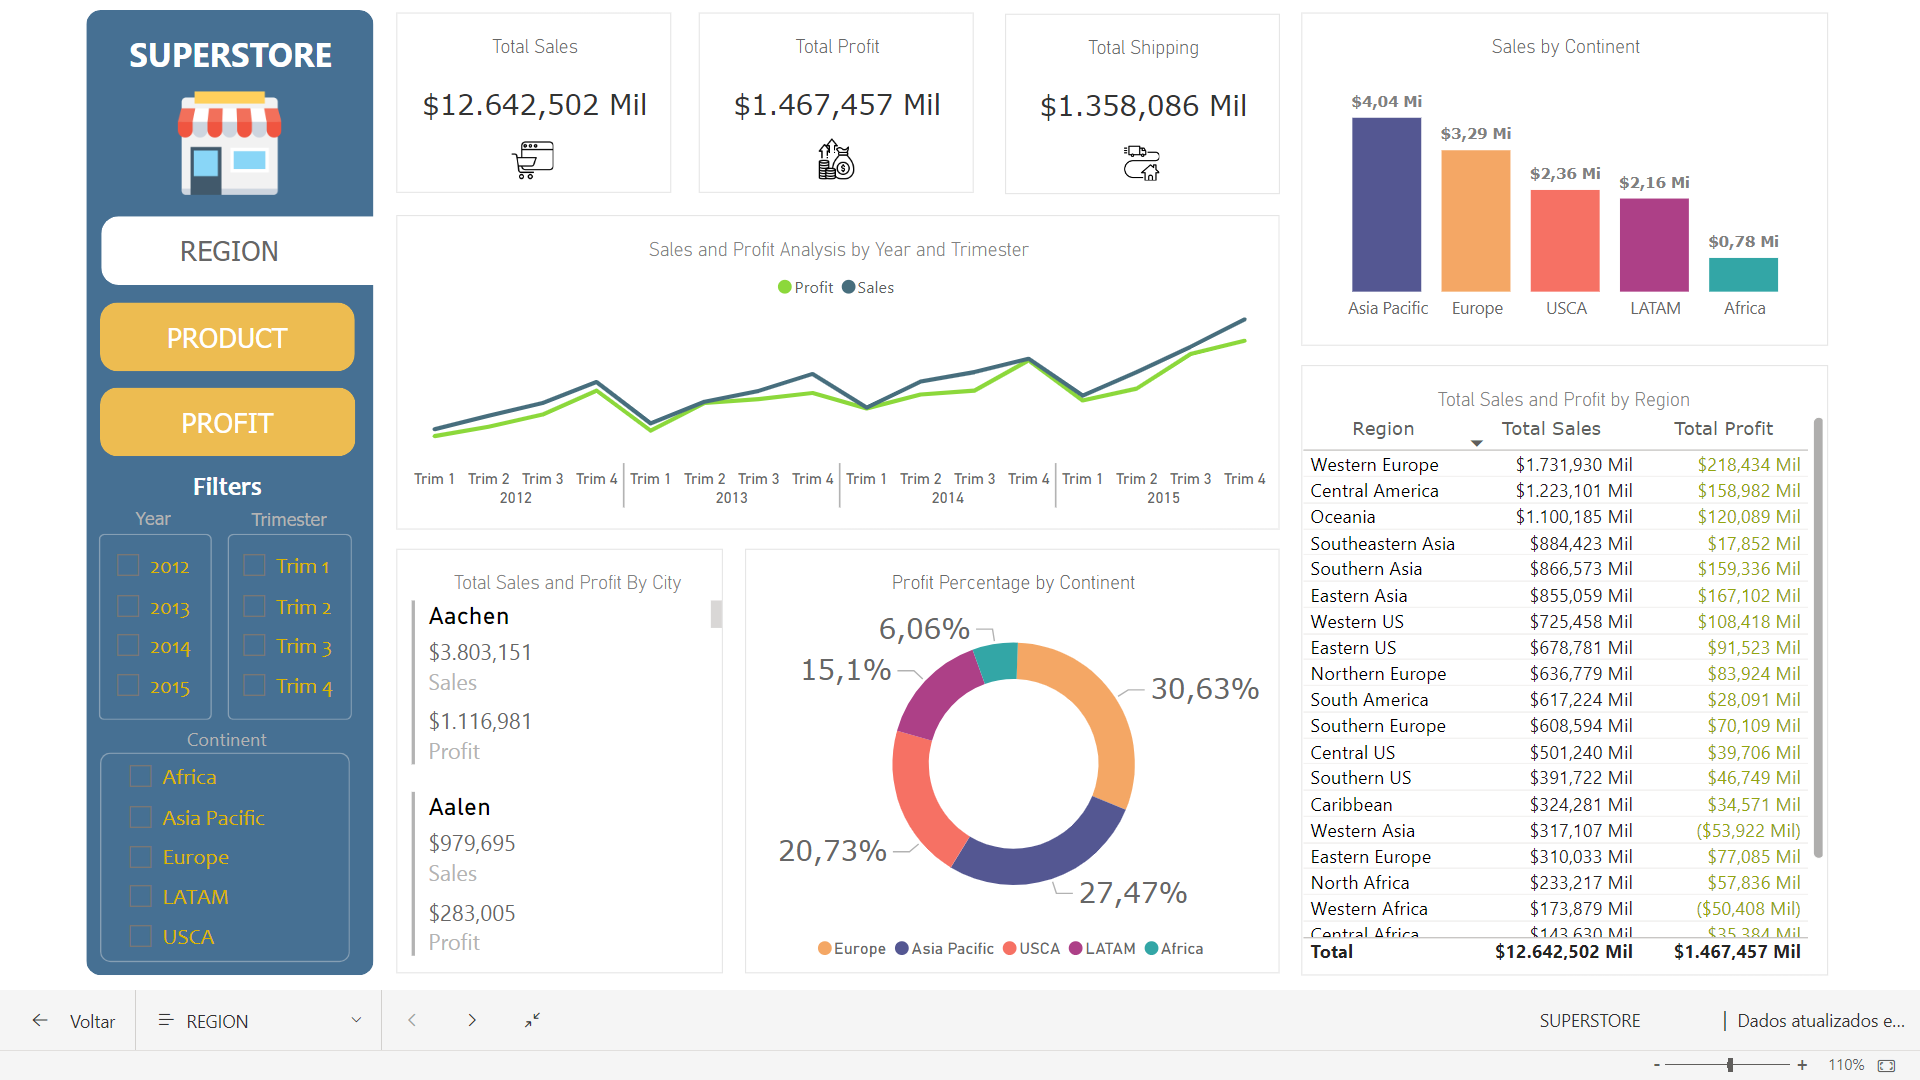

What the dashboard file says about the page in this screenshot:
{"tool":"powerbi","page":{"name":"REGION","canvas":[1280,720],"ordinal":0},"visuals":[{"type":"shape","box":[4.5,7.5,209,702],"z":0},{"type":"group","id":"g1","title":"Grupo 1","box":[15.6,157.7,216.7,50],"z":1000},{"type":"shape","box":[15.6,157.7,216.7,50],"z":1000,"group":"g1"},{"type":"shape","box":[14.4,219.9,185.3,50],"z":2000,"group":"g3"},{"type":"group","id":"g2","title":"Grupo 3","box":[14.4,282.1,185.6,50],"z":2000},{"type":"group","id":"g3","title":"Grupo 2","box":[14.4,219.9,185.6,50],"z":3000},{"type":"shape","box":[14.4,282.1,185.9,50],"z":3000,"group":"g2"},{"type":"columnChart","title":"Sales by Continent","fields":{"Y":["Sum(Orders.sales)"],"Category":["Orders.market"]},"box":[887.8,8.9,383.3,242.2],"z":4000},{"type":"multiRowCard","title":"Total Sales and Profit By City","fields":{"Values":["Orders.city","Sum(Orders.sales)","Sum(Orders.profit)"]},"box":[230,398.8,237.5,308.8],"z":5000},{"type":"card","title":"Total Sales","fields":{"Values":["Sum(Orders.sales)"]},"box":[230,8.8,200,131.2],"z":6000},{"type":"card","title":"Total Profit","fields":{"Values":["Sum(Orders.profit)"]},"box":[450,8.8,200,131.2],"z":7000},{"type":"shape","box":[13.9,387.8,82.2,135.6],"z":8000},{"type":"slicer","fields":{"Values":["Orders.orderDate.Variation.Hierarquia de datas.Ano"]},"box":[13.9,392.2,86.7,131.1],"z":9000},{"type":"textbox","box":[12.5,337.5,185,36.2],"z":10000},{"type":"textbox","box":[4.3,363,93.3,29.4],"z":11000},{"type":"textbox","box":[103.9,363.3,92.8,29.4],"z":12000},{"type":"textbox","box":[12.1,523.3,186.2,28.3],"z":13000},{"type":"textbox","box":[4.4,17.8,210,47.8],"z":14000},{"type":"card","title":"Total Shipping","fields":{"Values":["Sum(Orders.shippingCost)"]},"box":[672.5,10,200,131.2],"z":15000},{"type":"donutChart","title":"Profit Percentage by Continent","fields":{"Category":["Orders.market"],"Y":["Sum(Orders.profit)"]},"box":[483.8,398.8,388.8,308.8],"z":16000},{"type":"shape","box":[107.2,387.8,90.6,135.6],"z":17000},{"type":"shape","box":[14.4,546.9,181.9,152.5],"z":18000},{"type":"slicer","fields":{"Values":["Orders.orderDate.Variation.Hierarquia de datas.Trimestre"]},"box":[105,392.2,100,131.1],"z":19000},{"type":"slicer","fields":{"Values":["Orders.market"]},"box":[22.5,545,178.1,154.4],"z":20000},{"type":"tableEx","title":"Total Sales and Profit by Region","fields":{"Values":["Orders.region","Sum(Orders.sales)","Sum(Orders.profit)"]},"box":[888.1,265.7,383.3,444.3],"z":21000},{"type":"lineChart","title":"Sales and Profit Analysis by Year and Trimester","fields":{"Category":["Orders.orderDate.Variation.Hierarquia de datas.Ano","Orders.orderDate.Variation.Hierarquia de datas.Trimestre"],"Y2":["Sum(Orders.sales)"],"Y":["Sum(Orders.profit)"]},"box":[230,156.2,642.5,228.8],"z":22000},{"type":"image","box":[754.5,100.5,35,35],"z":23000},{"type":"image","box":[530,95.5,40,40],"z":24000},{"type":"image","box":[308.9,96.1,40,40],"z":25000},{"type":"image","box":[66.5,60.5,85,85.5],"z":26000}]}

Visuals, with their boxes on the page's 1280x720 design canvas (x1, y1, x2, y2). These are canvas units, not pixel positions in the 1920x1080 screenshot, which may show the page scaled, cropped or inside an application window:
shape: (x1=4, y1=8, x2=214, y2=710)
"Grupo 1" group: (x1=16, y1=158, x2=232, y2=208)
shape: (x1=16, y1=158, x2=232, y2=208)
shape: (x1=14, y1=220, x2=200, y2=270)
"Grupo 3" group: (x1=14, y1=282, x2=200, y2=332)
"Grupo 2" group: (x1=14, y1=220, x2=200, y2=270)
shape: (x1=14, y1=282, x2=200, y2=332)
"Sales by Continent" columnChart: (x1=888, y1=9, x2=1271, y2=251)
"Total Sales and Profit By City" multiRowCard: (x1=230, y1=399, x2=468, y2=708)
"Total Sales" card: (x1=230, y1=9, x2=430, y2=140)
"Total Profit" card: (x1=450, y1=9, x2=650, y2=140)
shape: (x1=14, y1=388, x2=96, y2=523)
slicer - Orders.orderDate.Variation.Hierarquia de datas.Ano: (x1=14, y1=392, x2=101, y2=523)
textbox: (x1=12, y1=338, x2=198, y2=374)
textbox: (x1=4, y1=363, x2=98, y2=392)
textbox: (x1=104, y1=363, x2=197, y2=393)
textbox: (x1=12, y1=523, x2=198, y2=552)
textbox: (x1=4, y1=18, x2=214, y2=66)
"Total Shipping" card: (x1=672, y1=10, x2=872, y2=141)
"Profit Percentage by Continent" donutChart: (x1=484, y1=399, x2=873, y2=708)
shape: (x1=107, y1=388, x2=198, y2=523)
shape: (x1=14, y1=547, x2=196, y2=699)
slicer - Orders.orderDate.Variation.Hierarquia de datas.Trimestre: (x1=105, y1=392, x2=205, y2=523)
slicer - Orders.market: (x1=22, y1=545, x2=201, y2=699)
"Total Sales and Profit by Region" tableEx: (x1=888, y1=266, x2=1271, y2=710)
"Sales and Profit Analysis by Year and Trimester" lineChart: (x1=230, y1=156, x2=872, y2=385)
image: (x1=754, y1=100, x2=790, y2=136)
image: (x1=530, y1=96, x2=570, y2=136)
image: (x1=309, y1=96, x2=349, y2=136)
image: (x1=66, y1=60, x2=152, y2=146)
